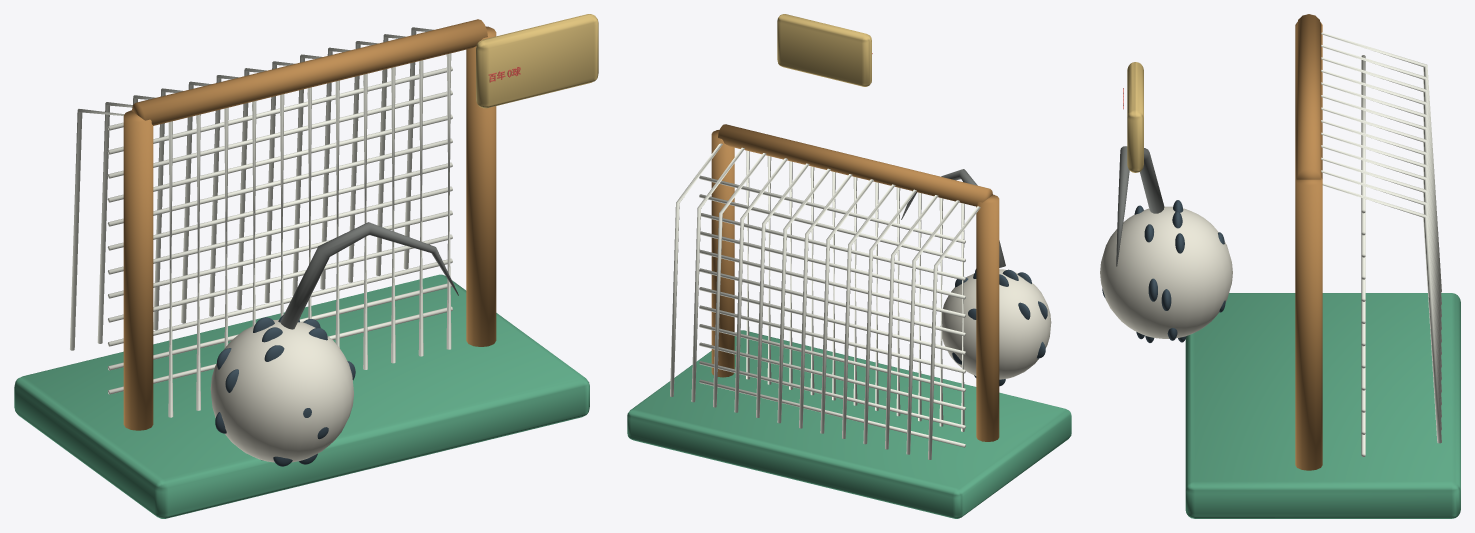
Rendered from P02_Century_Without_Goal_Soccer.glb.
3 renders of one model, left to right at view 1: azimuth 30°, elevation 25°; view 2: azimuth 150°, elevation 25°; view 3: azimuth 270°, elevation 25°, orthographic. The views are drawn at different scales.
Visible parts, largest first — view 1: P02 small grass training football field, P02_NET_ACTOR | Old football net robust real cotton cord, P02_GOAL_STATIC | Unpainted ancient gymnasium timber goal po, P02 actually inflated round old cracked leather football, P02 football score board ornate brass panel, P02 exaggerated football rebound bent trail made of shoeprin, P02_BALL_ACTOR | Original black genuine soccer pentagonal st; view 2: P02 small grass training football field, P02_NET_ACTOR | Old football net robust real cotton cord, P02_GOAL_STATIC | Unpainted ancient gymnasium timber goal po, P02 actually inflated round old cracked leather football, P02 football score board ornate brass panel, P02_BALL_ACTOR | Original black genuine soccer pentagonal st; view 3: P02 small grass training football field, P02 actually inflated round old cracked leather football, P02_GOAL_STATIC | Unpainted ancient gymnasium timber goal po, P02_NET_ACTOR | Old football net robust real cotton cord, P02 football score board ornate brass panel, P02 exaggerated football rebound bent trail made of shoeprin, P02_BALL_ACTOR | Original black genuine soccer pentagonal st.
Part boxes in pixels (x1,y1,x2,y2): P02 small grass training football field: [14, 274, 589, 518]; P02_NET_ACTOR | Old football net robust real cotton cord: [69, 27, 452, 417]; P02_GOAL_STATIC | Unpainted ancient gymnasium timber goal po: [123, 19, 496, 430]; P02 actually inflated round old cracked leather football: [210, 319, 353, 462]; P02 football score board ornate brass panel: [476, 14, 598, 108]; P02 exaggerated football rebound bent trail made of shoeprin: [280, 222, 458, 329]; P02_BALL_ACTOR | Original black genuine soccer pentagonal st: [215, 315, 355, 466]; P02 small grass training football field: [627, 330, 1071, 518]; P02_NET_ACTOR | Old football net robust real cotton cord: [670, 143, 980, 459]; P02_GOAL_STATIC | Unpainted ancient gymnasium timber goal po: [711, 124, 999, 441]; P02 actually inflated round old cracked leather football: [940, 269, 1051, 379]; P02 football score board ornate brass panel: [777, 14, 871, 86]; P02_BALL_ACTOR | Original black genuine soccer pentagonal st: [952, 269, 1047, 386]; P02 small grass training football field: [1185, 293, 1460, 518]; P02 actually inflated round old cracked leather football: [1100, 206, 1232, 338]; P02_GOAL_STATIC | Unpainted ancient gymnasium timber goal po: [1295, 14, 1322, 470]; P02_NET_ACTOR | Old football net robust real cotton cord: [1321, 32, 1441, 456]; P02 football score board ornate brass panel: [1127, 62, 1143, 172]; P02 exaggerated football rebound bent trail made of shoeprin: [1116, 146, 1164, 266]; P02_BALL_ACTOR | Original black genuine soccer pentagonal st: [1102, 200, 1225, 342].
Size of the model in its own units: 1.95 by 1.85 by 1.52.
